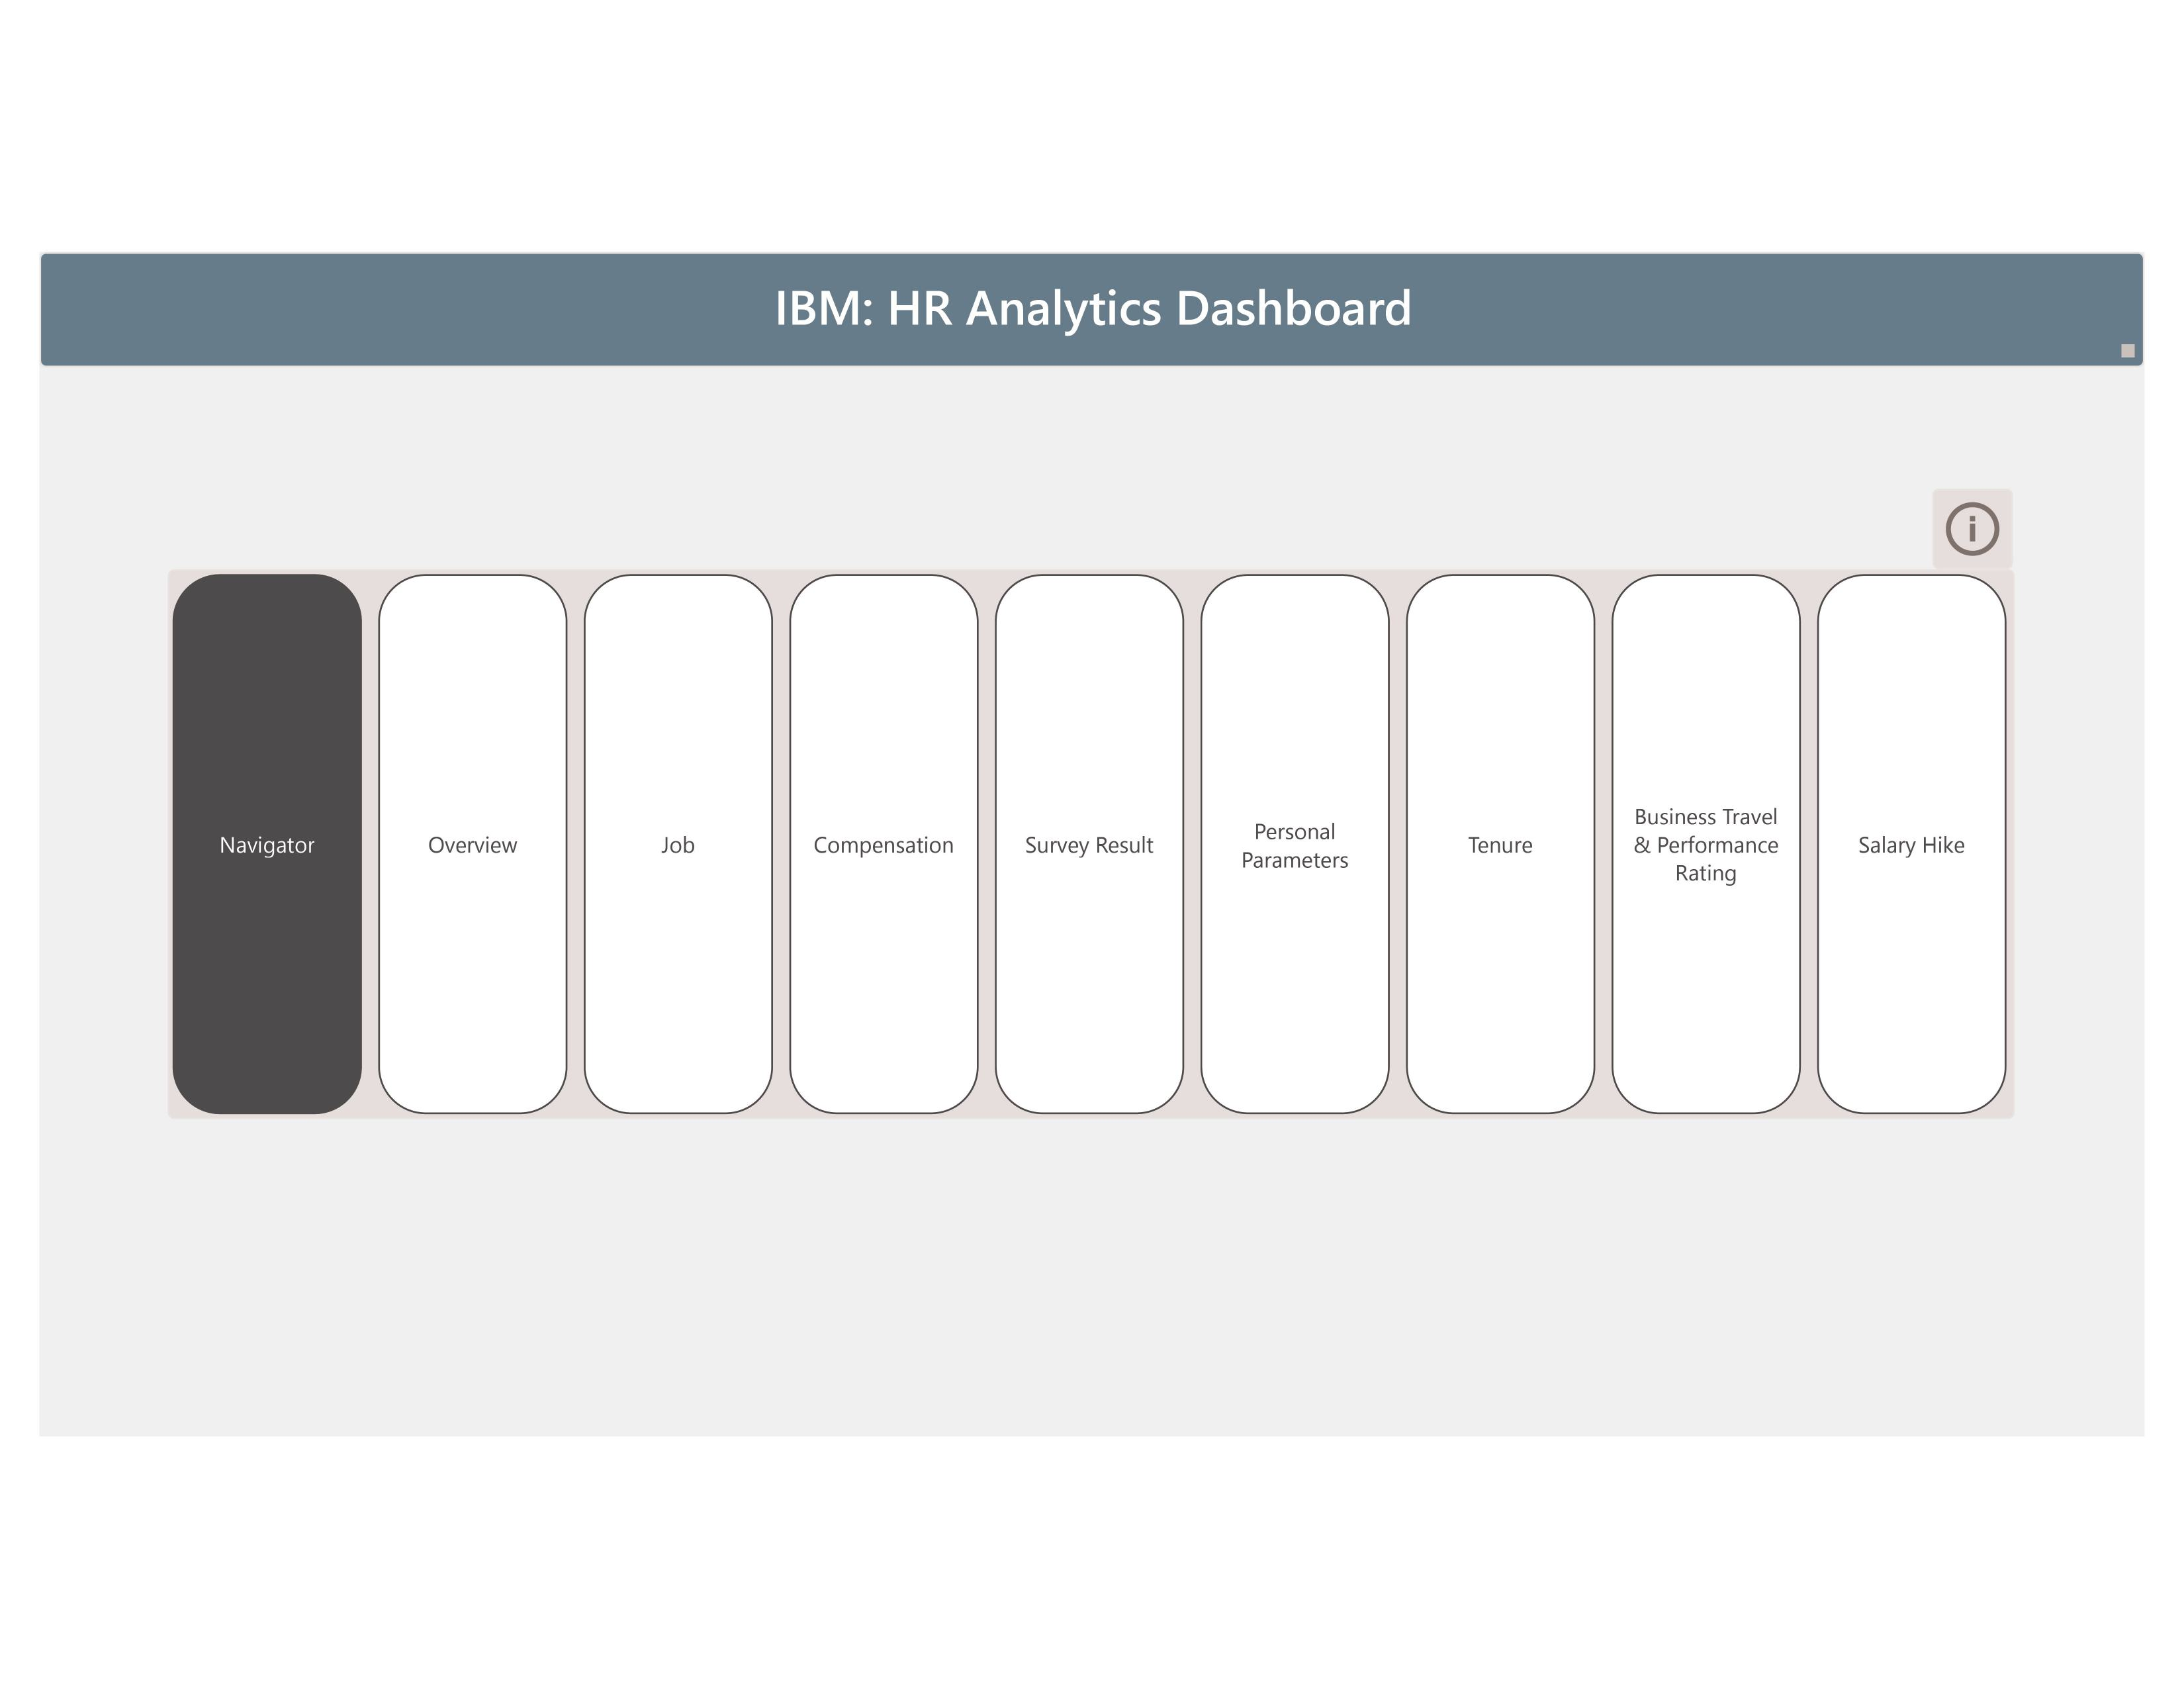

The dashboard page shown, as its layout file describes it:
{"tool":"powerbi","page":{"name":"Navigator","canvas":[1280,720],"ordinal":0},"visuals":[{"type":"textbox","title":"IBM: HR Analytics Dashboard","box":[0,0,1279.8,70],"z":0},{"type":"pageNavigator","box":[77.8,192.5,1123.4,334.1],"z":1000},{"type":"actionButton","box":[1151.4,144.3,48.6,48.6],"z":1001}]}

Visuals, with their boxes on the page's 1280x720 design canvas (x1, y1, x2, y2). These are canvas units, not pixel positions in the 2184x1688 screenshot, which may show the page scaled, cropped or inside an application window:
"IBM: HR Analytics Dashboard" textbox: box=[0, 0, 1280, 70]
pageNavigator: box=[78, 192, 1201, 527]
actionButton: box=[1151, 144, 1200, 193]
